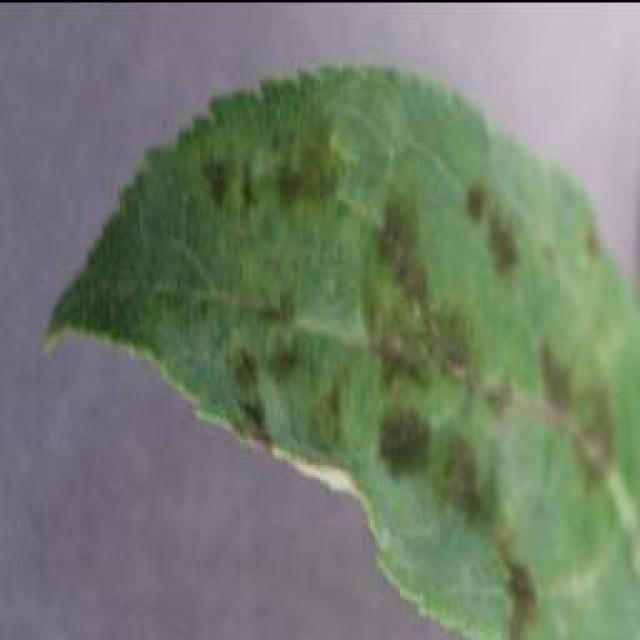apple scab disease: (40, 58, 638, 638)
